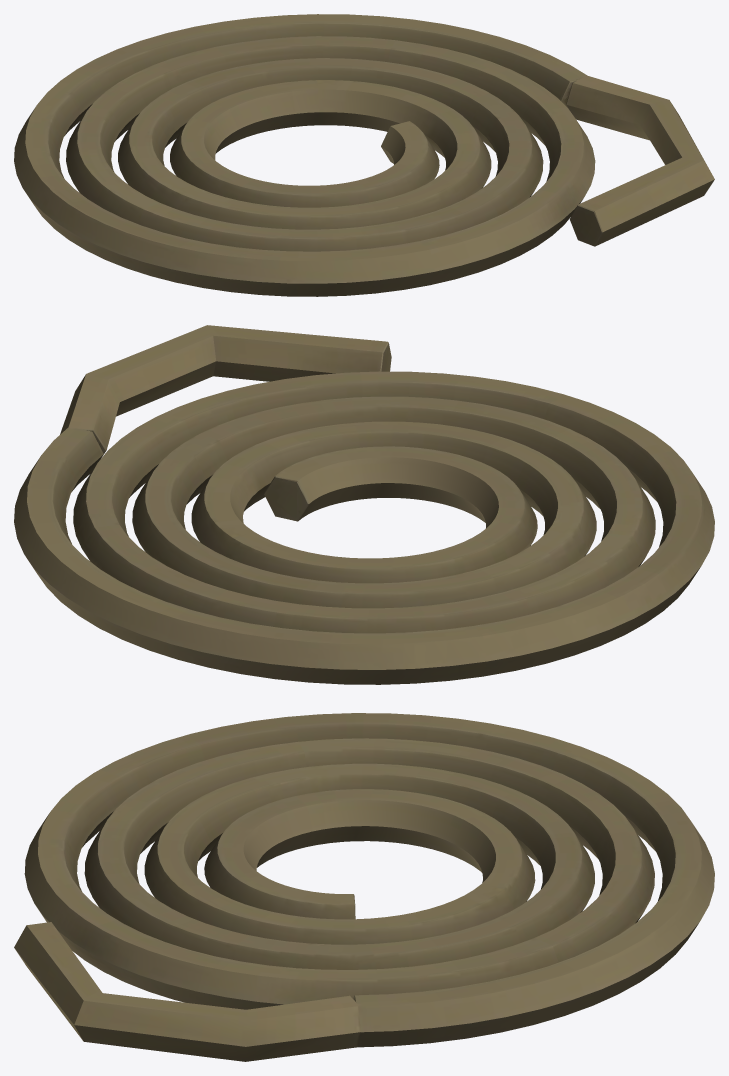
File: rope_coil.glb
3 views of the same model, one above another, from view 1: azimuth 30°, elevation 25°; view 2: azimuth 150°, elevation 25°; view 3: azimuth 270°, elevation 25° (orthographic). The views are drawn at different scales.
Parts seen in each view (by area): view 1: rope_coil; view 2: rope_coil; view 3: rope_coil.
Boxes of the visible parts, x1,y1,x2,y2 form: rope_coil: (14,14,714,296); rope_coil: (14,325,714,684); rope_coil: (14,713,714,1061).
Size of the model in its own units: 0.7005 by 0.0456 by 0.6428.
Materials: 1 (1 with a texture image).
